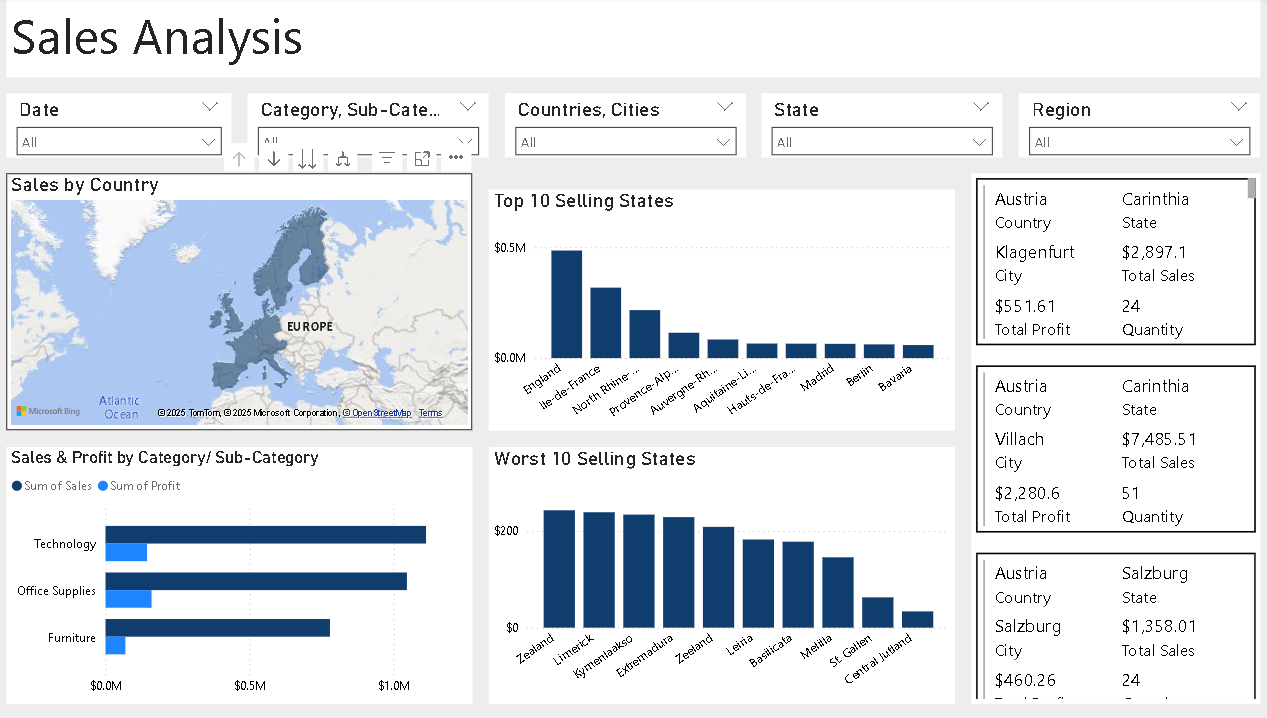

The dashboard page shown, as its layout file describes it:
{"tool":"powerbi","page":{"name":"Sales","canvas":[1280,720],"ordinal":1},"visuals":[{"type":"textbox","box":[16,0,1248,80],"z":0},{"type":"slicer","fields":{"Values":["superstore sample - eu superstore 2(orders)2.Order Date.Variation.Date Hierarchy.Year","superstore sample - eu superstore 2(orders)2.Order Date.Variation.Date Hierarchy.Month"]},"box":[16,96,224,64],"z":1000},{"type":"slicer","fields":{"Values":["superstore sample - eu superstore 2(orders)2.Category","superstore sample - eu superstore 2(orders)2.Sub-Category"]},"box":[256,96,240,64],"z":2000},{"type":"slicer","fields":{"Values":["superstore sample - eu superstore 2(orders)2.Country","superstore sample - eu superstore 2(orders)2.City"]},"box":[512,96,240,64],"z":3000},{"type":"slicer","fields":{"Values":["superstore sample - eu superstore 2(orders)2.State"]},"box":[768,96,240,64],"z":4000},{"type":"slicer","fields":{"Values":["superstore sample - eu superstore 2(orders)2.Region"]},"box":[1024,96,240,64],"z":5000},{"type":"filledMap","title":"Sales by Country","fields":{"Category":["superstore sample - eu superstore 2(orders)2.Country","superstore sample - eu superstore 2(orders)2.State","superstore sample - eu superstore 2(orders)2.City"]},"box":[16,176,464,256],"z":6000},{"type":"clusteredBarChart","title":"Sales & Profit by Category/ Sub-Category","fields":{"Y":["Sum(superstore sample - eu superstore 2(orders)2.Sales)","Sum(superstore sample - eu superstore 2(orders)2.Profit)"],"Category":["superstore sample - eu superstore 2(orders)2.Category","superstore sample - eu superstore 2(orders)2.Sub-Category"]},"box":[16,448,464,256],"z":7000},{"type":"clusteredColumnChart","title":"Top 10 Selling States","fields":{"Y":["Sum(superstore sample - eu superstore 2(orders)2.Sales)"],"Category":["superstore sample - eu superstore 2(orders)2.State"]},"box":[496,192,464,240],"z":8000},{"type":"clusteredColumnChart","title":"Worst 10 Selling States","fields":{"Category":["superstore sample - eu superstore 2(orders)2.State"],"Y":["Sum(superstore sample - eu superstore 2(orders)2.Sales)"]},"box":[496,448,464,256],"z":9000},{"type":"multiRowCard","fields":{"Values":["superstore sample - eu superstore 2(orders)2.Country","superstore sample - eu superstore 2(orders)2.State","superstore sample - eu superstore 2(orders)2.City","Sum(superstore sample - eu superstore 2(orders)2.Sales)","Sum(superstore sample - eu superstore 2(orders)2.Profit)","Sum(superstore sample - eu superstore 2(orders)2.Quantity)"]},"box":[976,176,288,528],"z":10000}]}

Visuals, with their boxes in screenshot pixels (x1, y1, x2, y2), scaled from the page's 1280x720 canvas onto the 1267x718 screenshot:
textbox: box(16, 0, 1251, 80)
slicer - superstore sample - eu superstore 2(orders)2.Order Date.Variation.Date Hierarchy.Year x superstore sample - eu superstore 2(orders)2.Order Date.Variation.Date Hierarchy.Month: box(16, 96, 238, 160)
slicer - superstore sample - eu superstore 2(orders)2.Category x superstore sample - eu superstore 2(orders)2.Sub-Category: box(253, 96, 491, 160)
slicer - superstore sample - eu superstore 2(orders)2.Country x superstore sample - eu superstore 2(orders)2.City: box(507, 96, 744, 160)
slicer - superstore sample - eu superstore 2(orders)2.State: box(760, 96, 998, 160)
slicer - superstore sample - eu superstore 2(orders)2.Region: box(1014, 96, 1251, 160)
"Sales by Country" filledMap: box(16, 176, 475, 431)
"Sales & Profit by Category/ Sub-Category" clusteredBarChart: box(16, 447, 475, 702)
"Top 10 Selling States" clusteredColumnChart: box(491, 191, 950, 431)
"Worst 10 Selling States" clusteredColumnChart: box(491, 447, 950, 702)
multiRowCard - superstore sample - eu superstore 2(orders)2.Country x superstore sample - eu superstore 2(orders)2.State: box(966, 176, 1251, 702)
